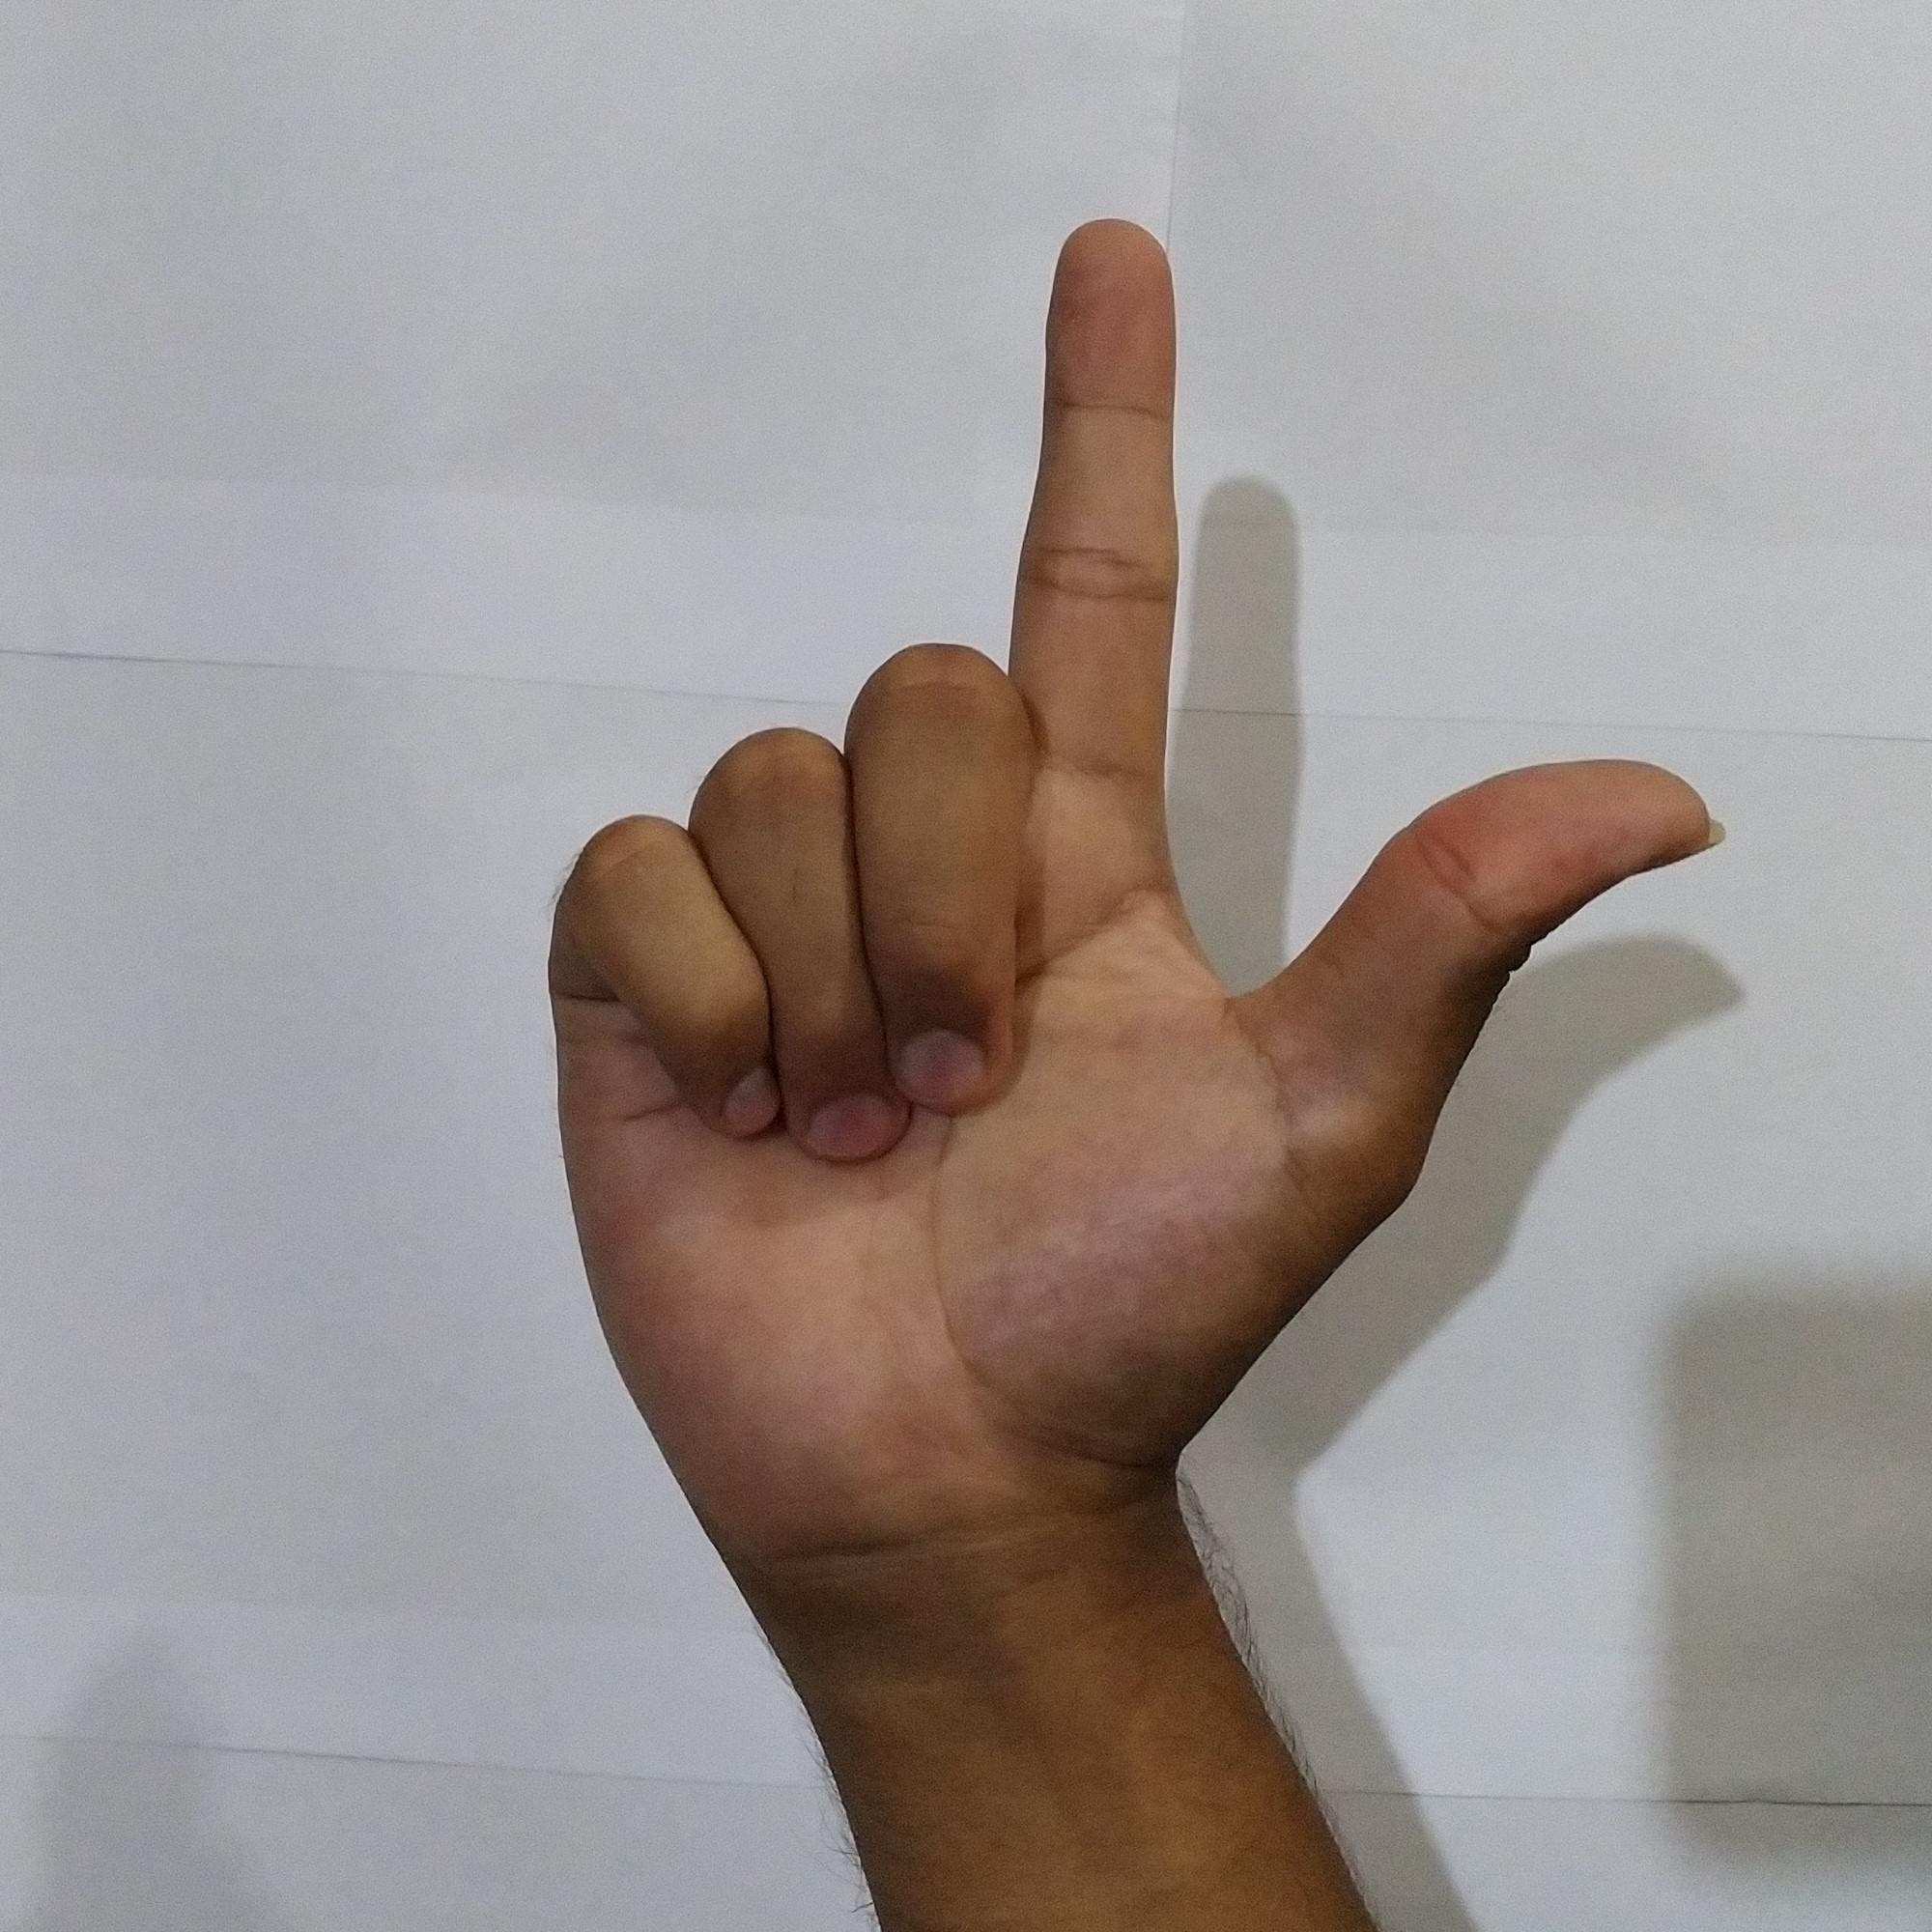L: (497, 196, 1744, 1534)
